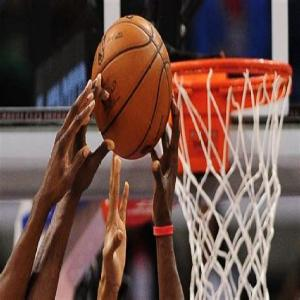Basket: (91, 14, 173, 161)
